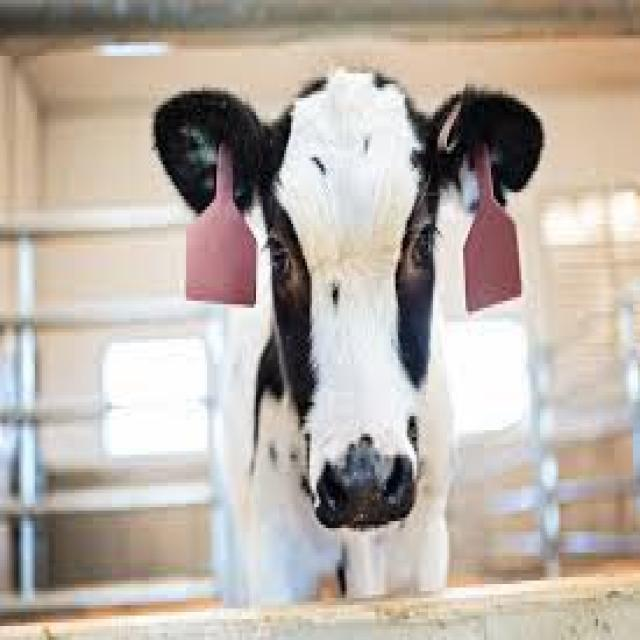cow: (194, 54, 468, 535)
